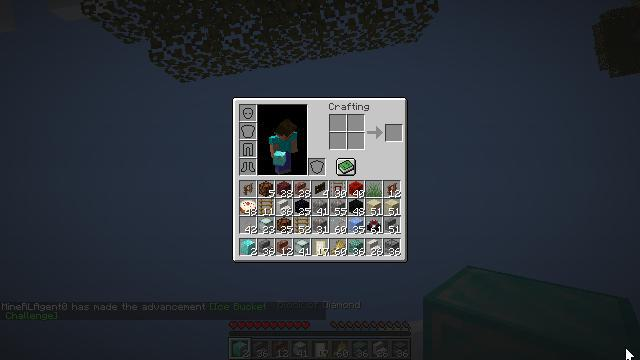cursor: (625, 347, 635, 360)
